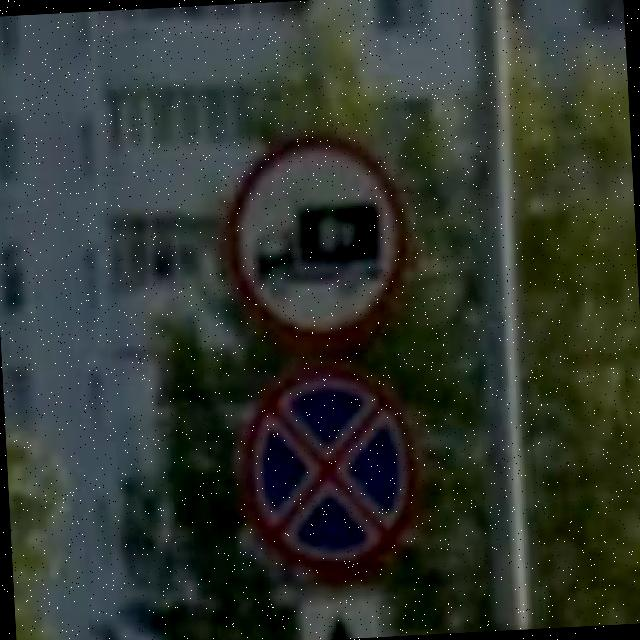Zakaz zatrzymywania sie: (233, 353, 428, 587)
